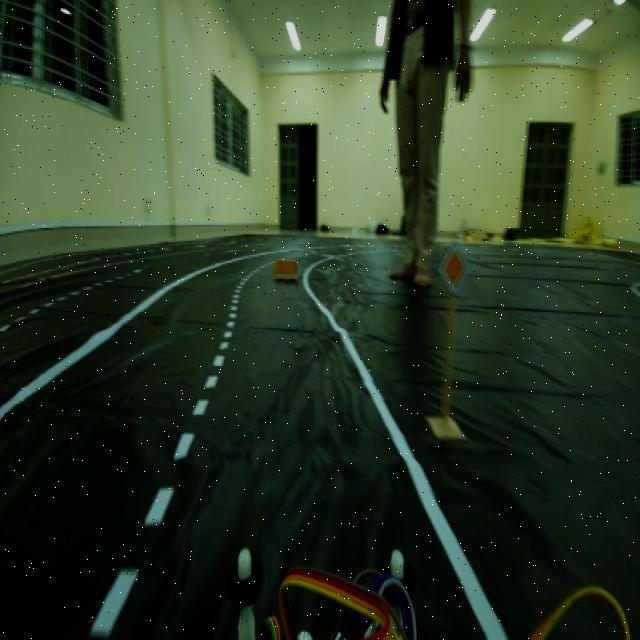priority: (436, 238, 474, 300)
roadblock: (272, 250, 306, 292)
